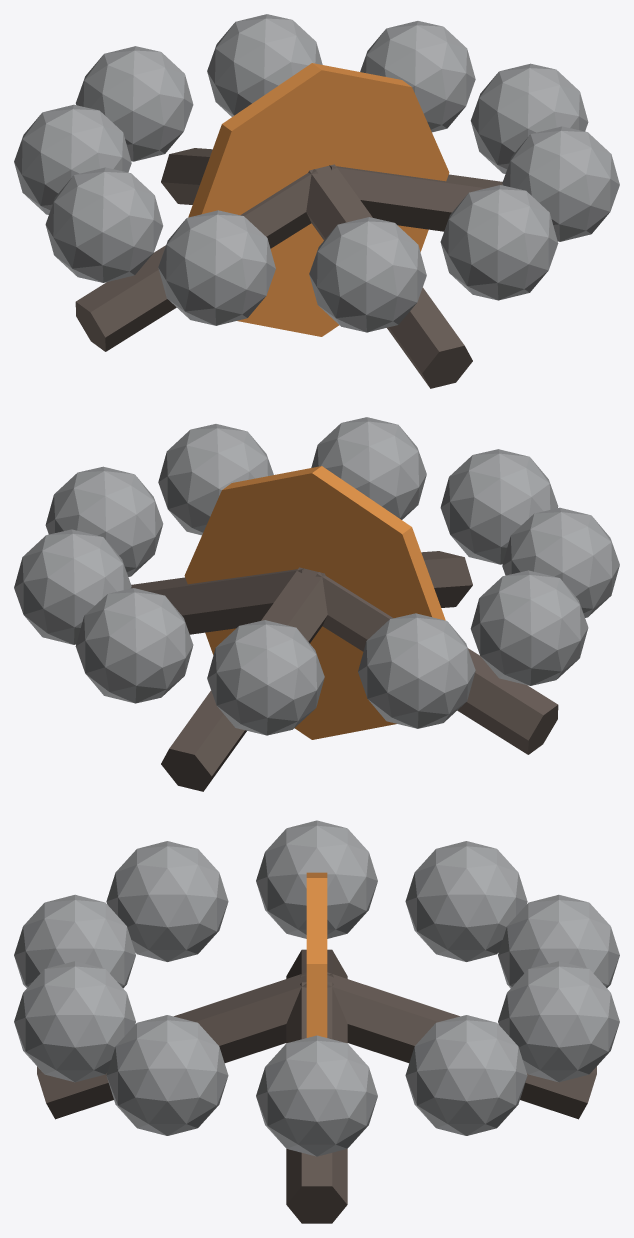
File: campfire.glb
3 views of the same model, one above another, from view 1: azimuth 30°, elevation 25°; view 2: azimuth 150°, elevation 25°; view 3: azimuth 270°, elevation 25° (orthographic). The views are drawn at different scales.
Visible parts, largest first — view 1: geometry_0; view 2: geometry_0; view 3: geometry_0.
Boxes of the visible parts, bbox=[...] form: geometry_0: bbox=[14, 14, 619, 388]; geometry_0: bbox=[14, 417, 619, 791]; geometry_0: bbox=[14, 820, 619, 1223].
Size of the model in its own units: 1.86 by 0.9 by 1.79.
